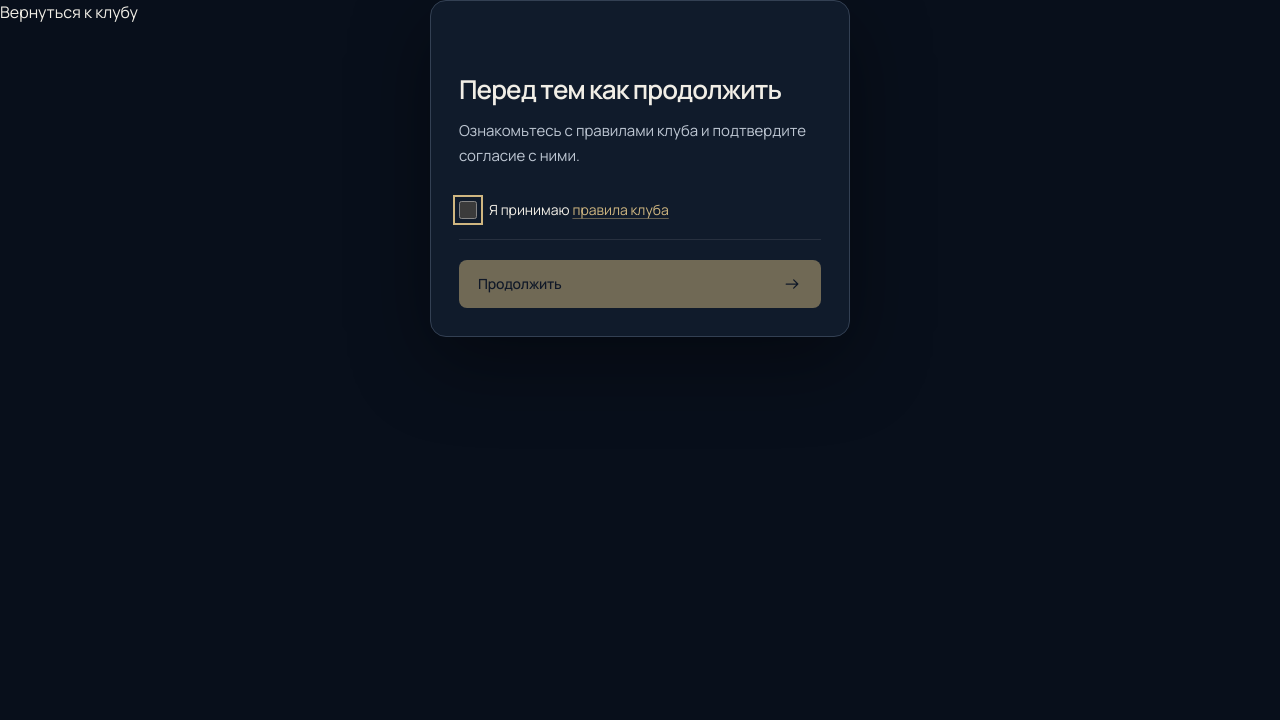
Test case: club rules consent › records consent only after the checkbox and confirmation, never on Escape
Expected: the button "Продолжить" is disabled, [459, 260, 821, 308]
Press Escape in the dialog, box [430, 0, 850, 337]
Click the checkbox at (468, 210), box [459, 201, 477, 219]
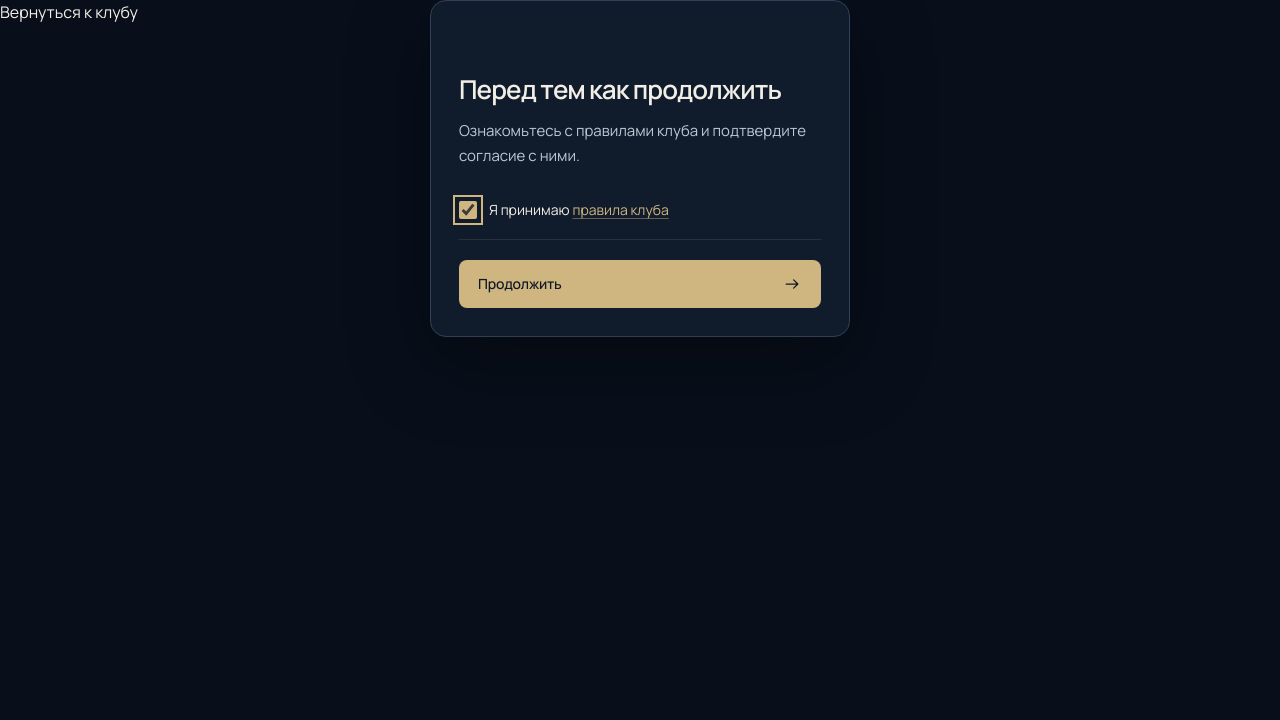
Now the button "Продолжить" is enabled
Click the button "Продолжить" at (520, 284), box [459, 260, 821, 308]
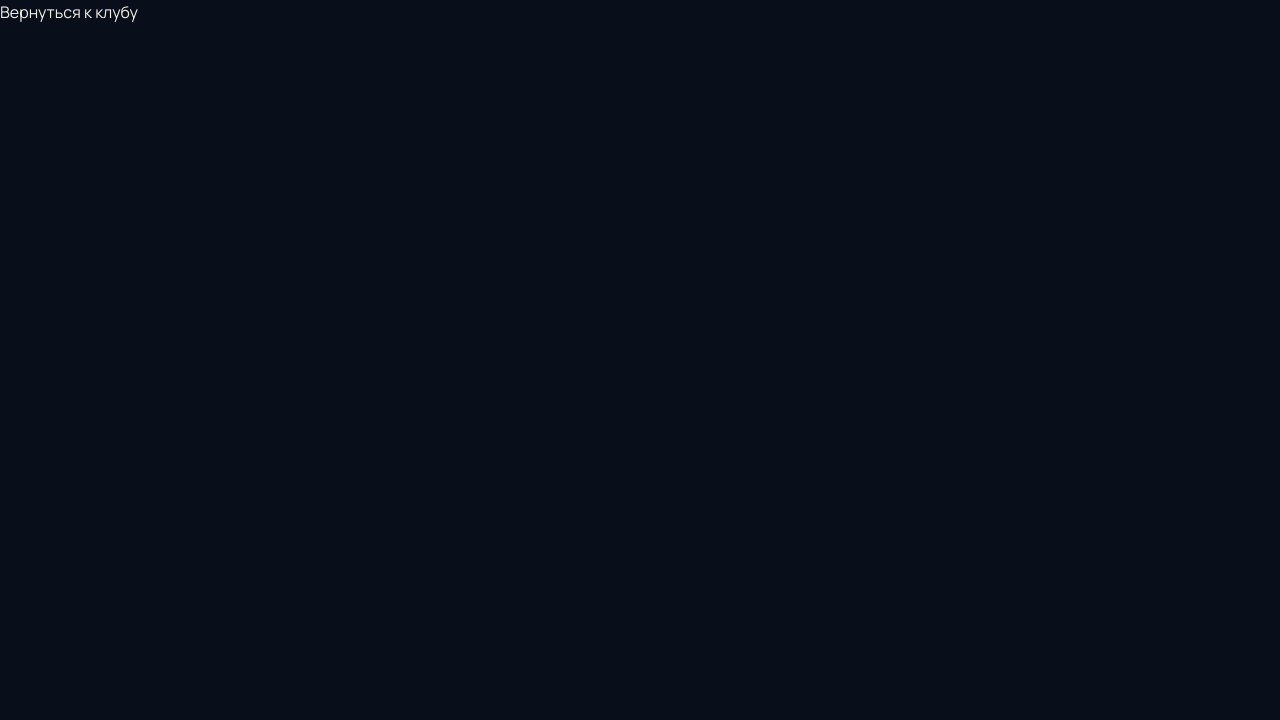
Now the dialog is gone
